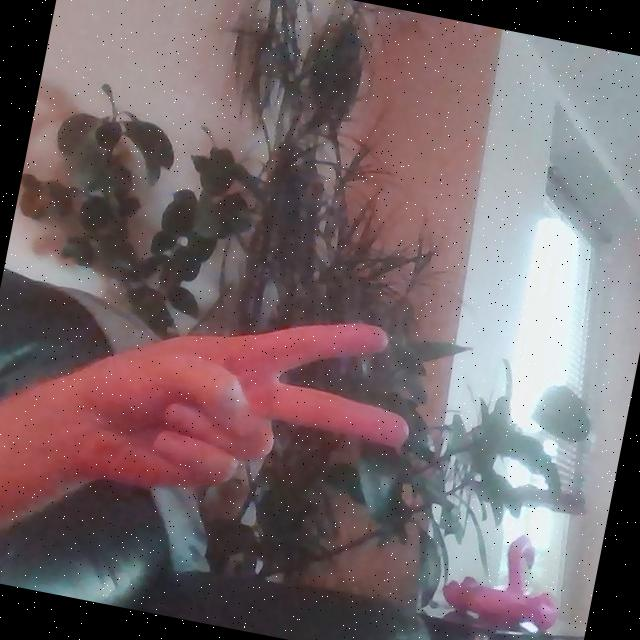scissors: (68, 266, 432, 542)
